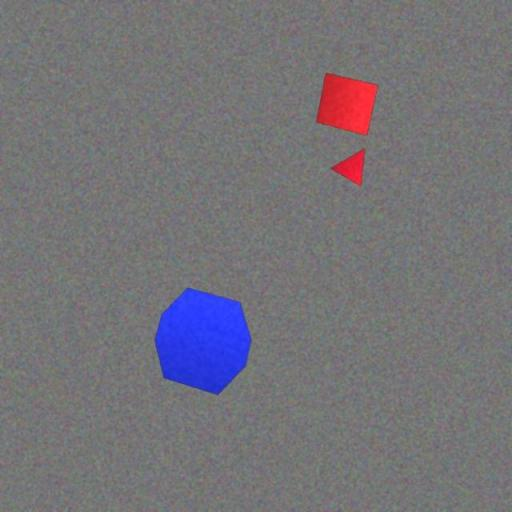RED_SQUARE: (316, 73, 379, 137)
